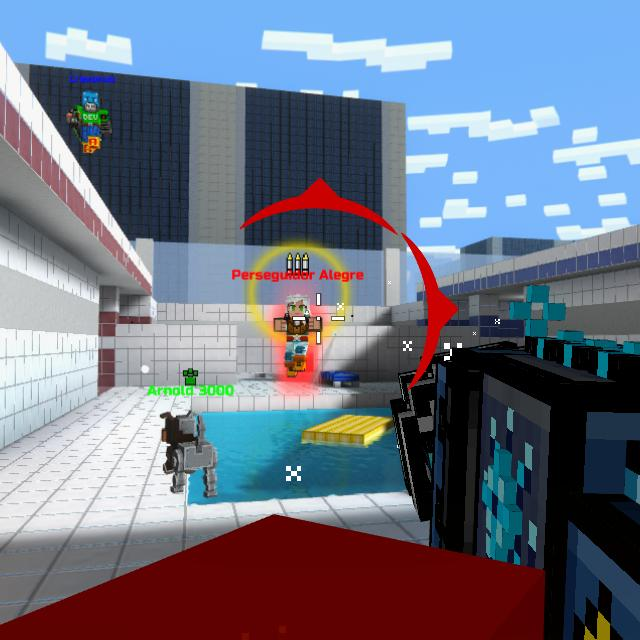Enemy: (273, 294, 323, 378)
